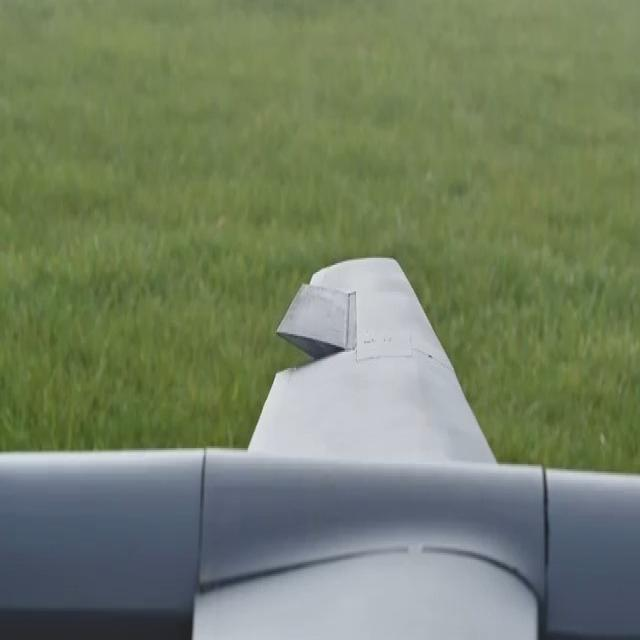iha: (0, 256, 639, 638)
